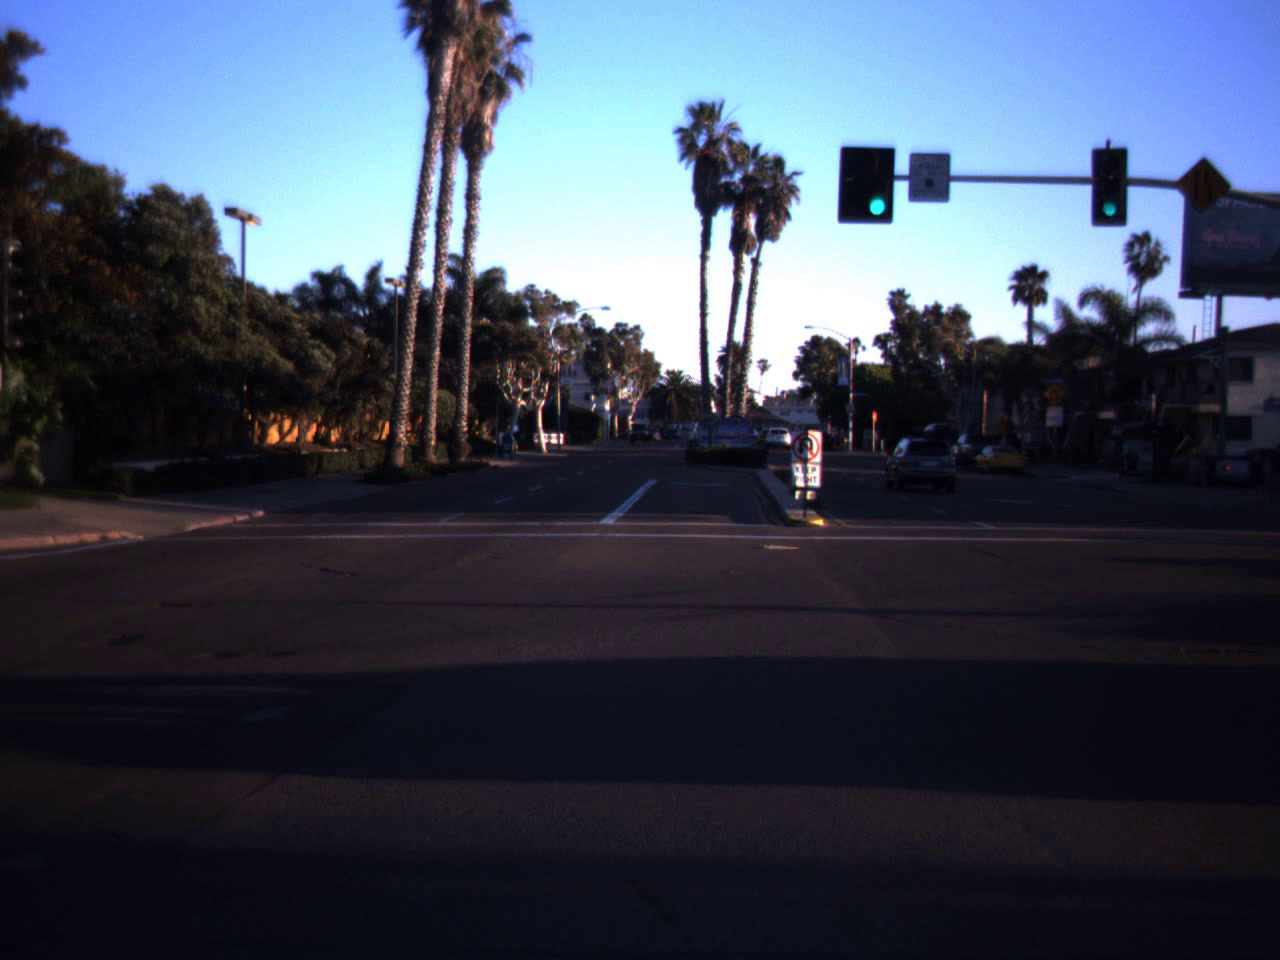go: (856, 151, 898, 221), (1097, 179, 1124, 219)
